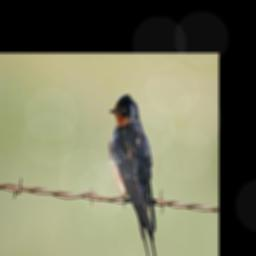Swallow: (109, 91, 162, 256)
